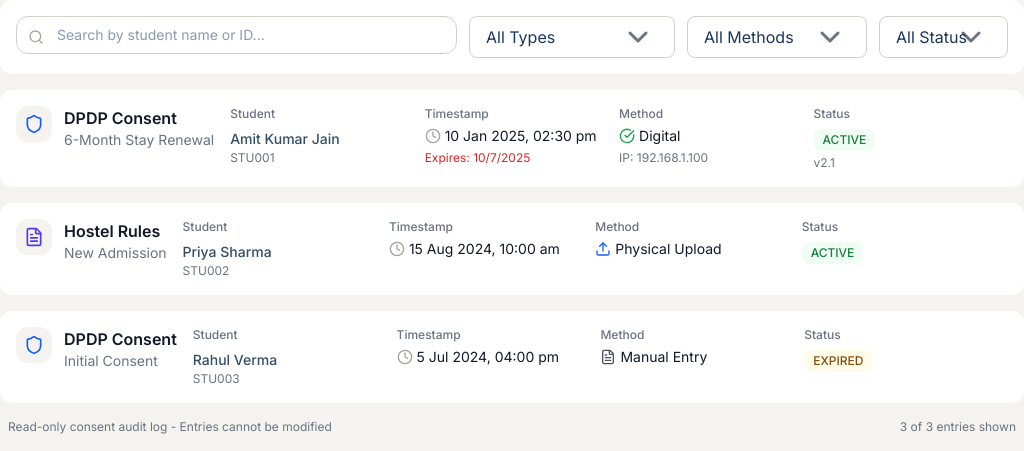
Test case: Task 21: Audit, Logs, and Compliance Screens › ConsentLogsView › filters by consent type
Select "Hostel Rules" in the 1st dropdown at (572, 37), box [469, 16, 675, 58]
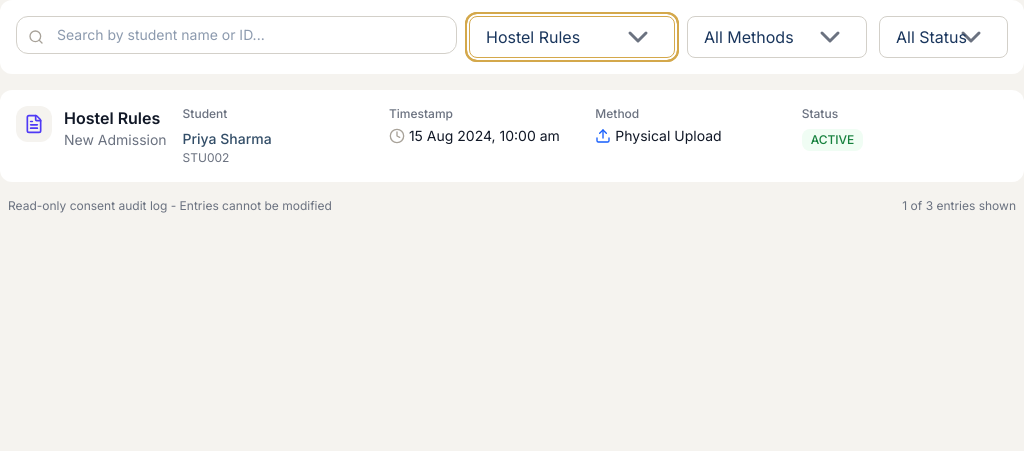
Expected: the button "Priya Sharma" is shown, [183, 129, 272, 149]
Result: the button "Amit Kumar Jain" is gone
